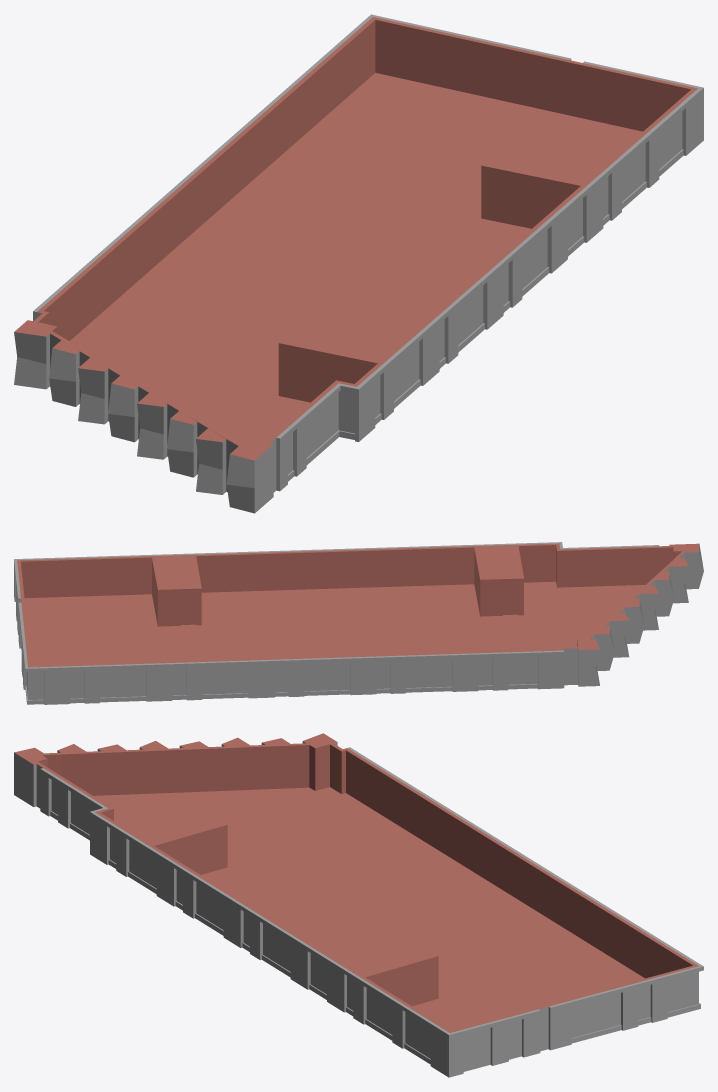
The model's file is JLL_Ruya_Region3DModels_Riyadh_Derived_HeroBuildings_Building 305_Floors_KSA_04_04105_B29_Floor_T2_5.fbx.
The picture shows the model from 3 angles, top to bottom: view 1: azimuth 30°, elevation 25°; view 2: azimuth 150°, elevation 25°; view 3: azimuth 270°, elevation 25°; orthographic projection. The views are drawn at different scales.
Parts seen in each view (by area): view 1: KSA_04_04105_B29_Floor_T2_5; view 2: KSA_04_04105_B29_Floor_T2_5; view 3: KSA_04_04105_B29_Floor_T2_5.
Part boxes in pixels (bbox=[...]): KSA_04_04105_B29_Floor_T2_5: bbox=[14, 14, 703, 513]; KSA_04_04105_B29_Floor_T2_5: bbox=[14, 542, 703, 704]; KSA_04_04105_B29_Floor_T2_5: bbox=[14, 733, 703, 1077].
Size of what is drawn, in the model's own units: 5169 by 348 by 4993.
